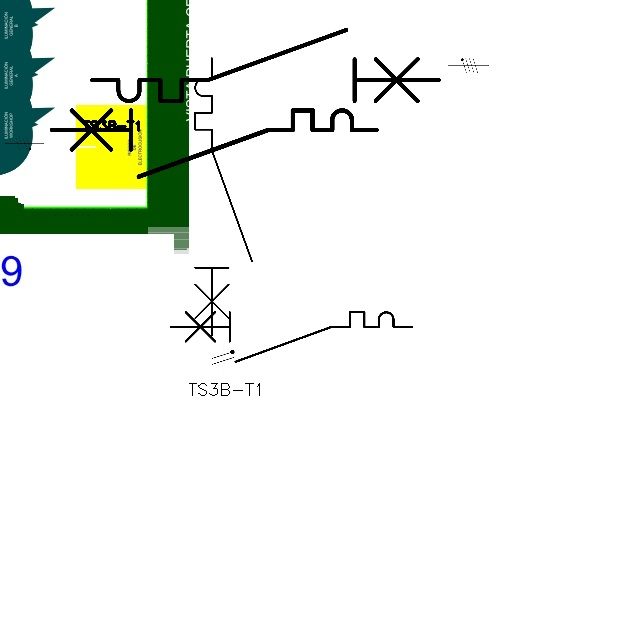interruptor_termomagnetico: (83, 21, 448, 110), (43, 102, 384, 185), (188, 51, 259, 342), (165, 306, 418, 368)
